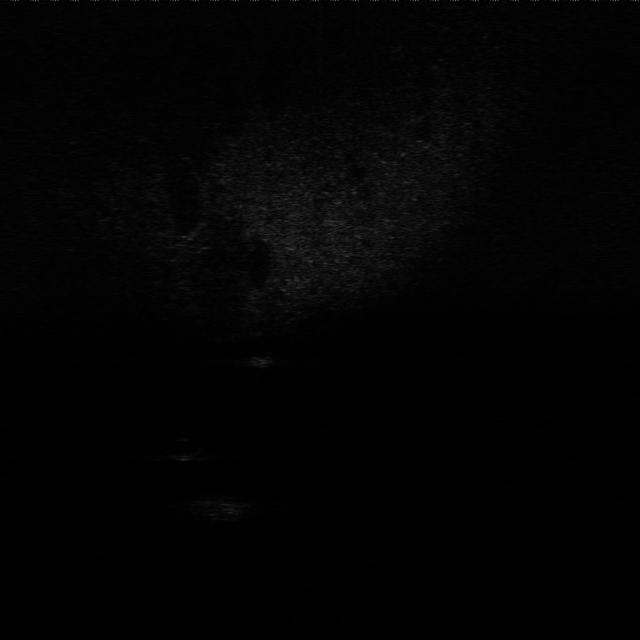cube: (200, 491, 260, 522)
